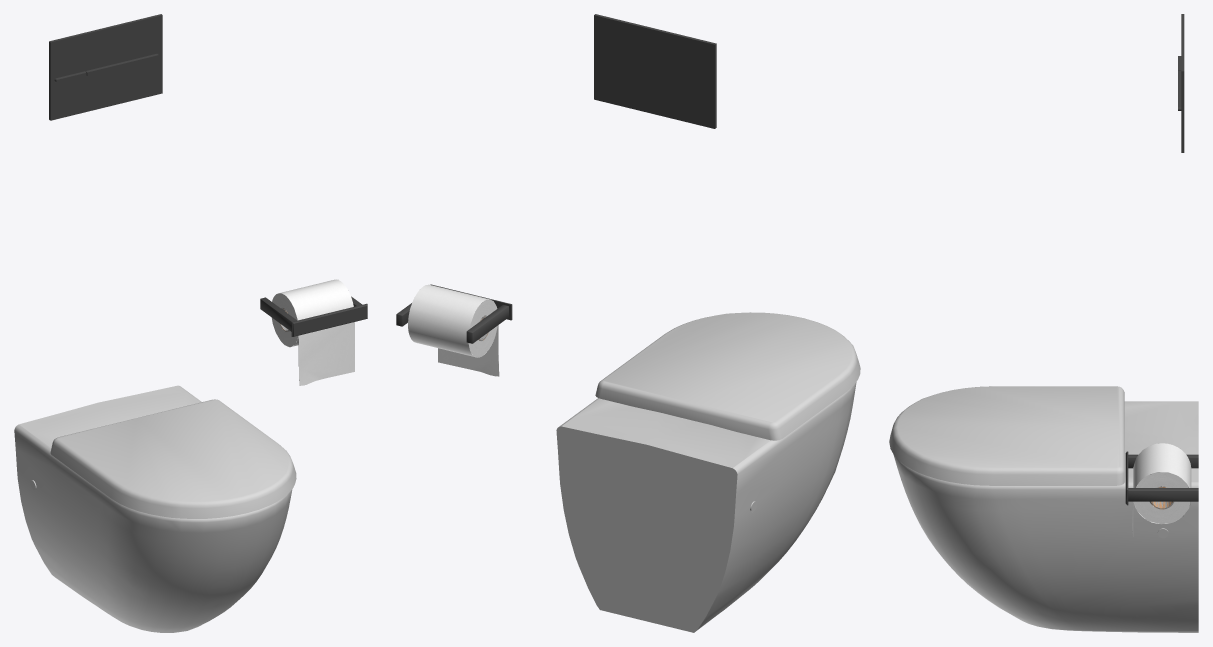
The model's file is toilet.glb.
3 views of the same model, side by side, from view 1: azimuth 30°, elevation 25°; view 2: azimuth 150°, elevation 25°; view 3: azimuth 270°, elevation 25° (orthographic). The views are drawn at different scales.
Visible parts, largest first — view 1: toilet; view 2: toilet; view 3: toilet.
Part boxes in pixels (x1=…): toilet: x1=14, y1=14, x2=367, y2=632; toilet: x1=396, y1=14, x2=860, y2=632; toilet: x1=889, y1=14, x2=1198, y2=632.
Size of the model in its own units: 0.6764 by 1.09 by 0.5403.
Materials: 4 (2 with a texture image).
